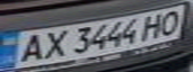3: (69, 25, 93, 55)
4: (118, 16, 145, 45), (90, 21, 112, 52), (106, 18, 127, 48)
A: (9, 31, 51, 64)
H: (136, 11, 172, 39)
O: (154, 8, 187, 37)
X: (36, 27, 72, 61)
